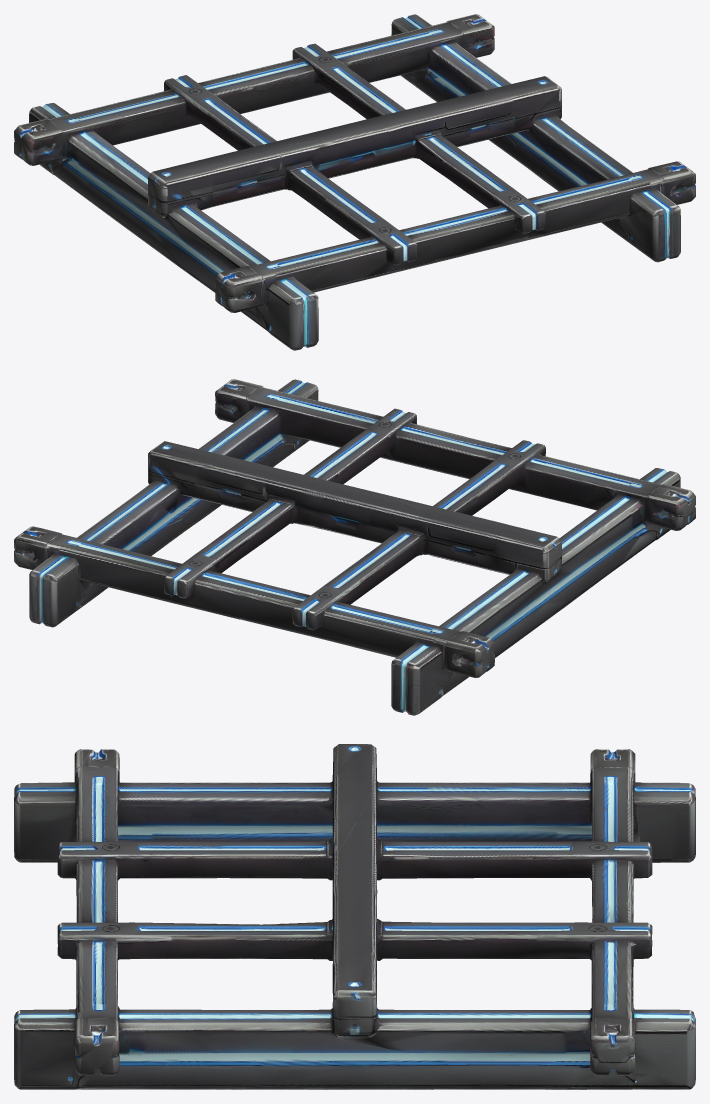
Rendered from arbor-futuristic-ceiling.glb.
3 renders of one model, top to bottom at view 1: azimuth 30°, elevation 25°; view 2: azimuth 150°, elevation 25°; view 3: azimuth 270°, elevation 25°, orthographic. The views are drawn at different scales.
Bounding box in the file's own units: 1.91 × 0.3149 × 1.88.
Materials: 1 (1 with a texture image).
